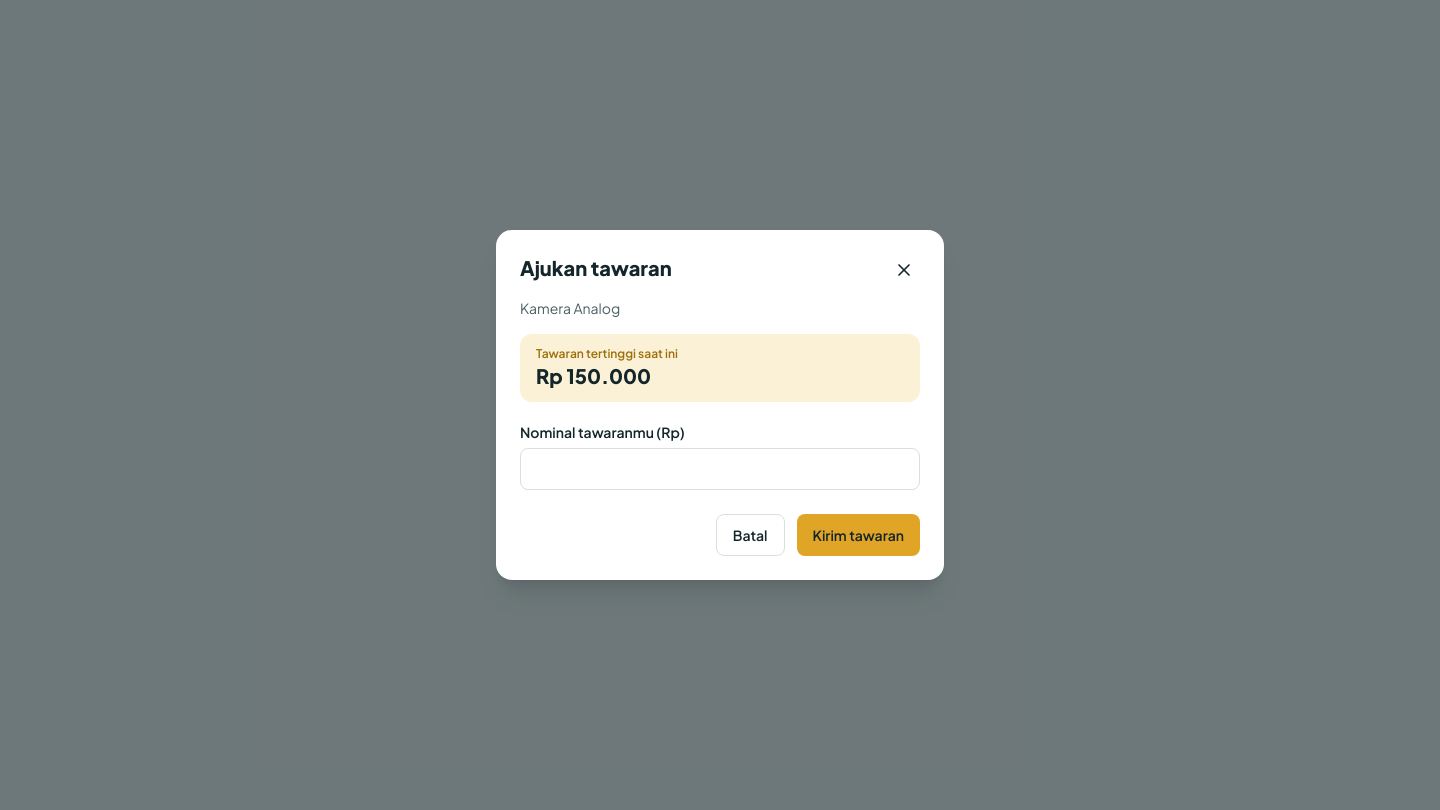
Test: BidModal › menolak nominal  yang tidak melebihi tawaran tertinggi
Step 1. Click the button "Kirim tawaran" → [858, 535], box [796,514,920,556]
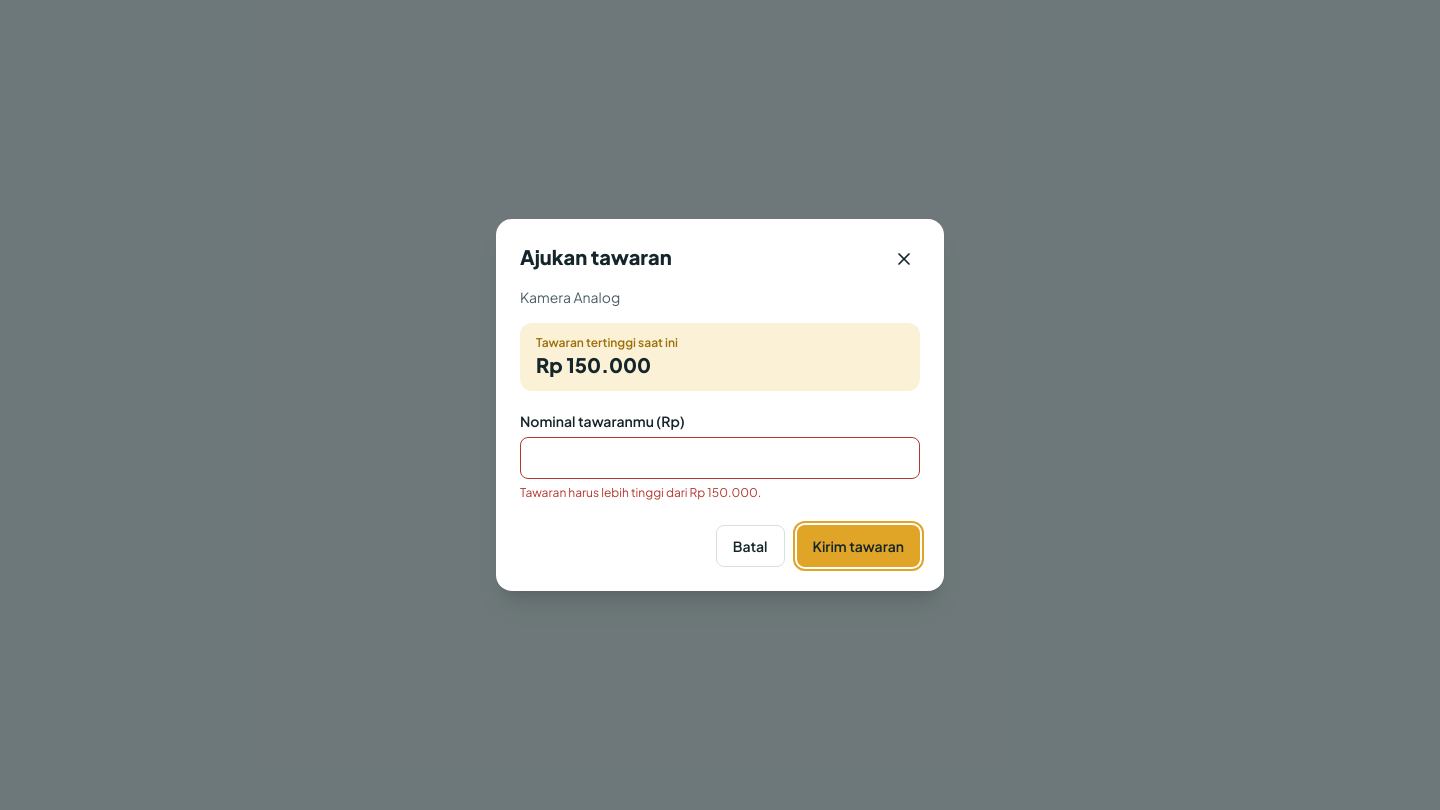
Expected: the text "Tawaran harus lebih tinggi dari Rp 150.000." is shown, [520,485,761,500]
